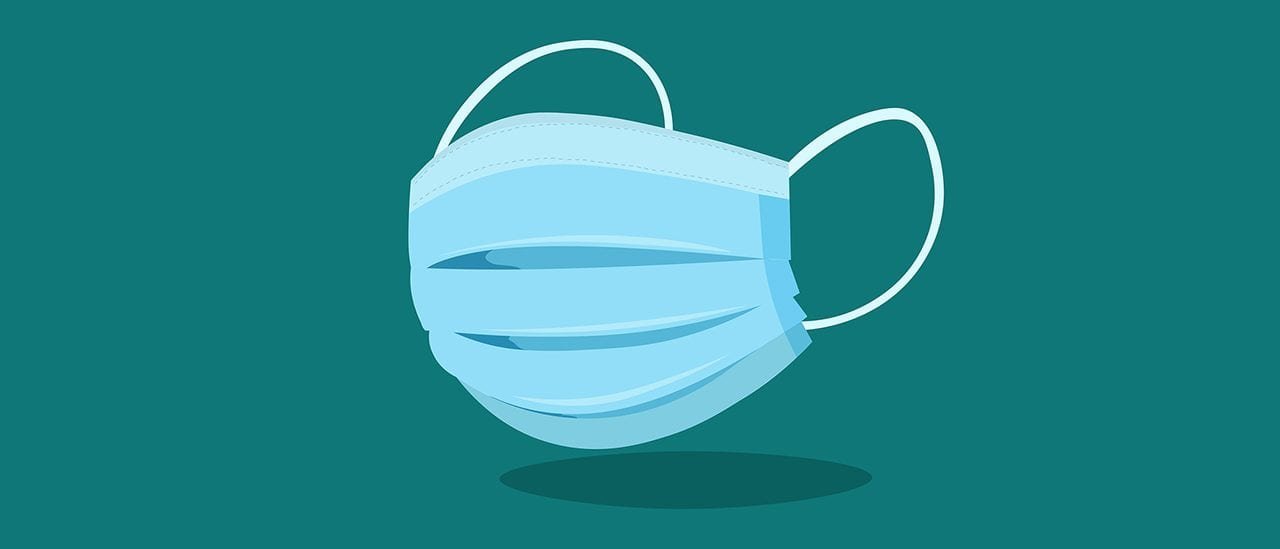barbijo: (396, 29, 954, 454)
